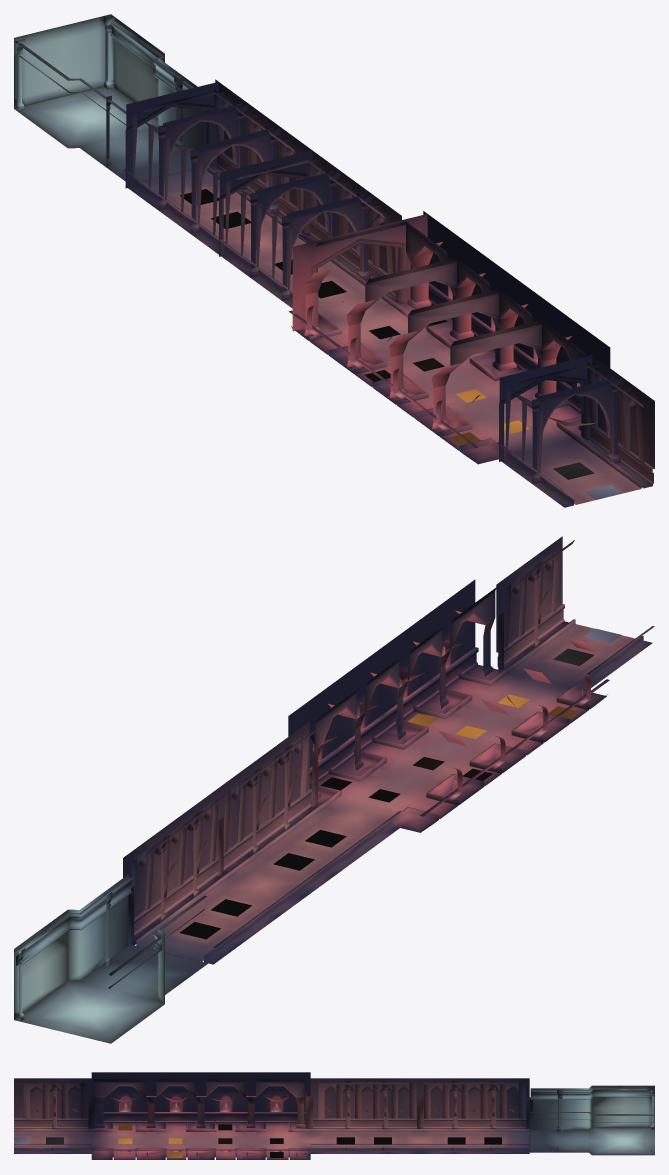
Rendered from 02HallA.gltf.
3 renders of one model, top to bottom at view 1: azimuth 30°, elevation 25°; view 2: azimuth 150°, elevation 25°; view 3: azimuth 270°, elevation 25°, orthographic. The views are drawn at different scales.
Visible parts, largest first — view 1: stg040_o35_Mesh_0032, stg040_o35_Mesh_0011, stg040_o35_Mesh_0036, stg040_o35_Mesh_0004, stg040_o35_Mesh_0000, stg040_o35_Mesh_0016, stg040_o35_Mesh_0014, stg040_o35_Mesh_0008, stg040_o35_Mesh_0023, stg040_o35_Mesh_0006, stg040_o35_Mesh_0037, stg040_o35_Mesh_0034 (+8 smaller); view 2: stg040_o35_Mesh_0032, stg040_o35_Mesh_0036, stg040_o35_Mesh_0011, stg040_o35_Mesh_0037, stg040_o35_Mesh_0035, stg040_o35_Mesh_0034, stg040_o35_Mesh_0000, stg040_o35_Mesh_0023, stg040_o35_Mesh_0014, stg040_o35_Mesh_0022, stg040_o35_Mesh_0016, stg040_o35_Mesh_0024 (+5 smaller); view 3: stg040_o35_Mesh_0032, stg040_o35_Mesh_0011, stg040_o35_Mesh_0036, stg040_o35_Mesh_0023, stg040_o35_Mesh_0000, stg040_o35_Mesh_0022, stg040_o35_Mesh_0014, stg040_o35_Mesh_0037, stg040_o35_Mesh_0034, stg040_o35_Mesh_0024, stg040_o35_Mesh_0035, stg040_o35_Mesh_0016 (+9 smaller).
Part boxes in pixels (left/top/right/bottom): stg040_o35_Mesh_0032: left=16, top=79, right=654, bottom=468; stg040_o35_Mesh_0011: left=17, top=16, right=644, bottom=483; stg040_o35_Mesh_0036: left=125, top=166, right=652, bottom=507; stg040_o35_Mesh_0004: left=16, top=32, right=620, bottom=478; stg040_o35_Mesh_0000: left=14, top=14, right=619, bottom=438; stg040_o35_Mesh_0016: left=17, top=31, right=617, bottom=474; stg040_o35_Mesh_0014: left=14, top=20, right=618, bottom=453; stg040_o35_Mesh_0008: left=14, top=14, right=612, bottom=401; stg040_o35_Mesh_0023: left=217, top=155, right=653, bottom=483; stg040_o35_Mesh_0006: left=126, top=102, right=635, bottom=452; stg040_o35_Mesh_0037: left=112, top=137, right=630, bottom=502; stg040_o35_Mesh_0034: left=143, top=170, right=587, bottom=463; stg040_o35_Mesh_0032: left=15, top=536, right=591, bottom=1043; stg040_o35_Mesh_0036: left=131, top=619, right=652, bottom=964; stg040_o35_Mesh_0011: left=20, top=540, right=574, bottom=1021; stg040_o35_Mesh_0037: left=112, top=627, right=630, bottom=991; stg040_o35_Mesh_0035: left=147, top=624, right=634, bottom=952; stg040_o35_Mesh_0034: left=136, top=620, right=583, bottom=961; stg040_o35_Mesh_0000: left=14, top=569, right=553, bottom=1012; stg040_o35_Mesh_0023: left=134, top=609, right=563, bottom=932; stg040_o35_Mesh_0014: left=14, top=574, right=569, bottom=1043; stg040_o35_Mesh_0022: left=128, top=604, right=654, bottom=947; stg040_o35_Mesh_0016: left=19, top=579, right=588, bottom=1013; stg040_o35_Mesh_0024: left=288, top=579, right=475, bottom=736; stg040_o35_Mesh_0032: left=14, top=1078, right=654, bottom=1154; stg040_o35_Mesh_0011: left=14, top=1079, right=654, bottom=1131; stg040_o35_Mesh_0036: left=14, top=1120, right=529, bottom=1159; stg040_o35_Mesh_0023: left=14, top=1103, right=526, bottom=1144; stg040_o35_Mesh_0000: left=52, top=1085, right=654, bottom=1125; stg040_o35_Mesh_0022: left=14, top=1112, right=532, bottom=1150; stg040_o35_Mesh_0014: left=52, top=1087, right=654, bottom=1155; stg040_o35_Mesh_0037: left=14, top=1135, right=588, bottom=1147; stg040_o35_Mesh_0034: left=76, top=1090, right=529, bottom=1149; stg040_o35_Mesh_0024: left=91, top=1072, right=310, bottom=1090; stg040_o35_Mesh_0035: left=14, top=1123, right=516, bottom=1159; stg040_o35_Mesh_0016: left=53, top=1090, right=654, bottom=1159.
Bounding box in the file's own units: 22.16 × 12.37 × 145.
